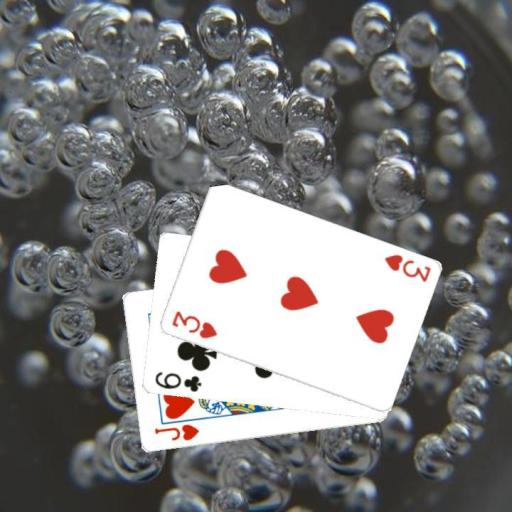3H: (381, 251, 432, 284), (168, 308, 218, 341)
6C: (152, 368, 203, 394)
JH: (152, 422, 201, 443)
